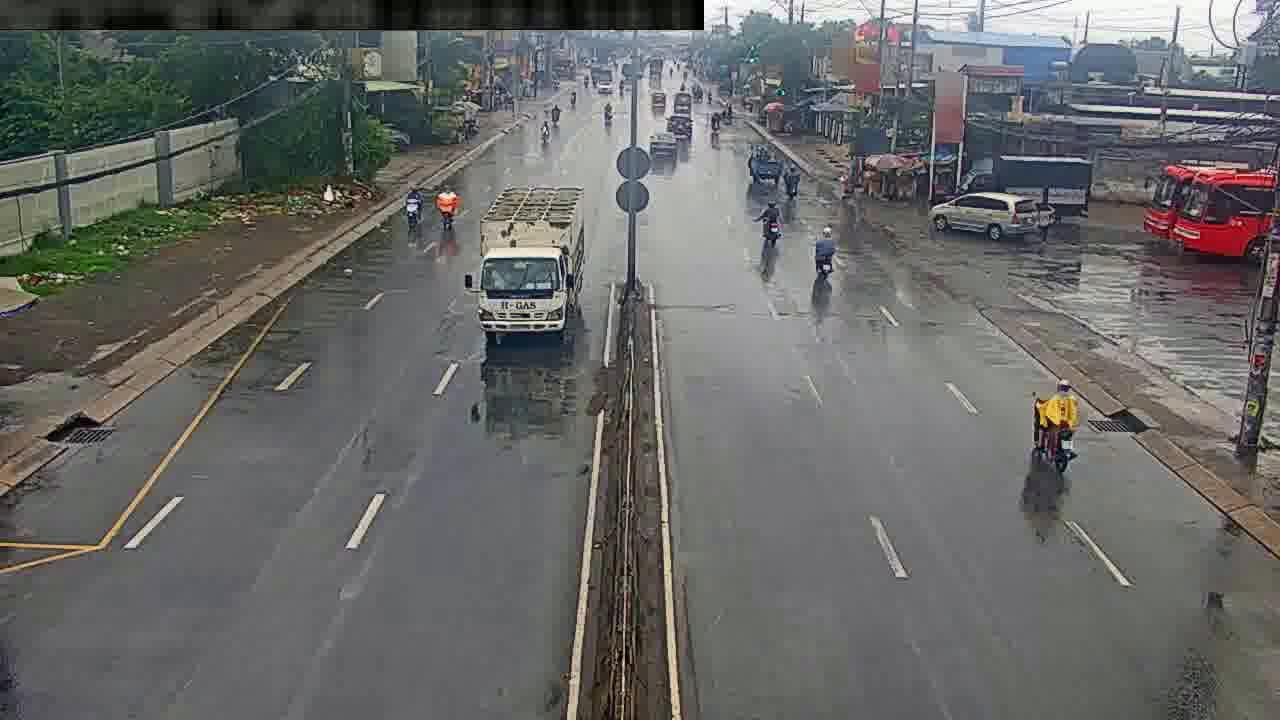container: (467, 189, 587, 332)
motorbike: (1031, 373, 1078, 475), (401, 178, 424, 233), (435, 185, 459, 234), (759, 195, 779, 251), (815, 232, 837, 279), (783, 164, 801, 199), (706, 107, 720, 141), (539, 121, 550, 139)
